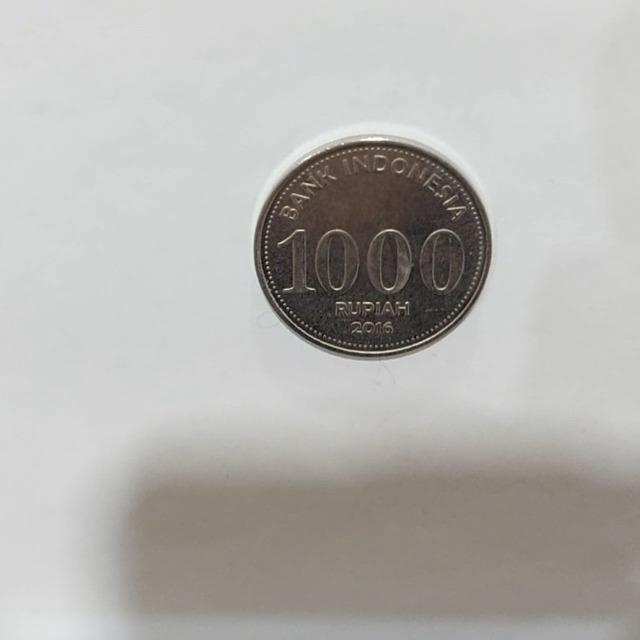Rp100: (251, 129, 492, 360)
